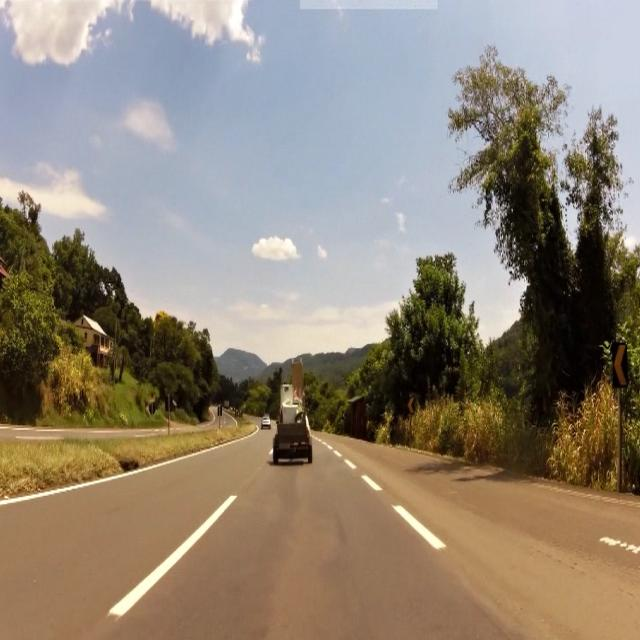Del: (610, 343, 632, 388), (406, 396, 415, 418)
